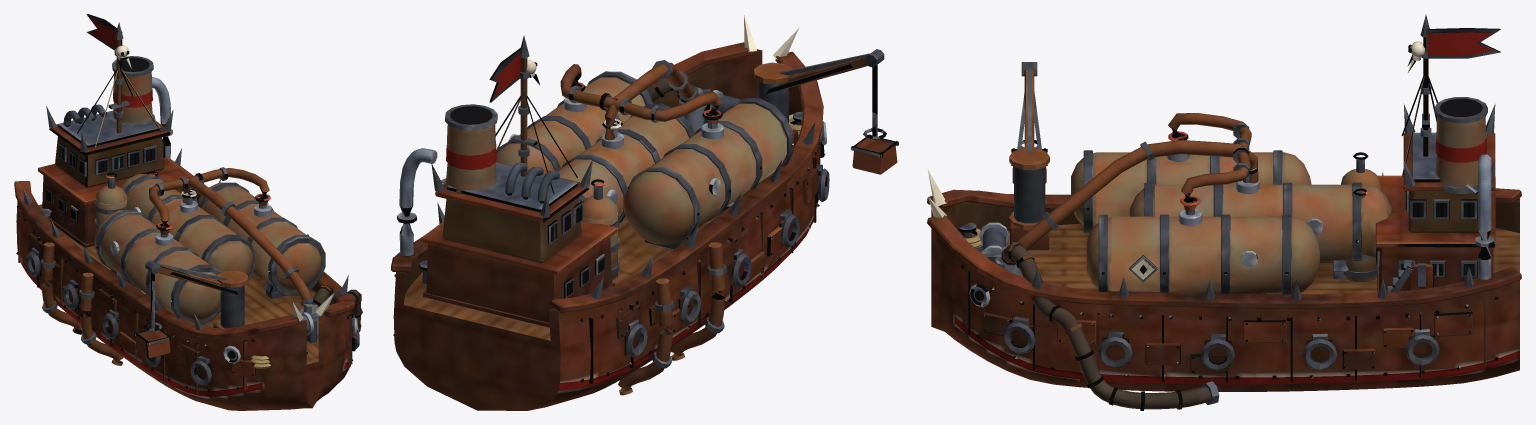
Rendered from orc_tanker.glb.
3 views of the same model, side by side, from view 1: azimuth 30°, elevation 25°; view 2: azimuth 150°, elevation 25°; view 3: azimuth 270°, elevation 25° (orthographic). The views are drawn at different scales.
Visible parts, largest first — view 1: Hull, Hose, Flag; view 2: Hull, Flag; view 3: Hull, Hose, Flag.
Boxes of the visible parts, x1,y1,x2,y2 form: Hull: [14, 22, 359, 410]; Hose: [304, 285, 362, 331]; Flag: [86, 14, 122, 50]; Hull: [391, 15, 898, 410]; Flag: [489, 48, 520, 102]; Hull: [927, 15, 1521, 391]; Hose: [1001, 242, 1219, 410]; Flag: [1426, 28, 1500, 58].
Size of the model in its own units: 4.73 by 5.12 by 7.58.
Materials: 2 (2 with a texture image).
